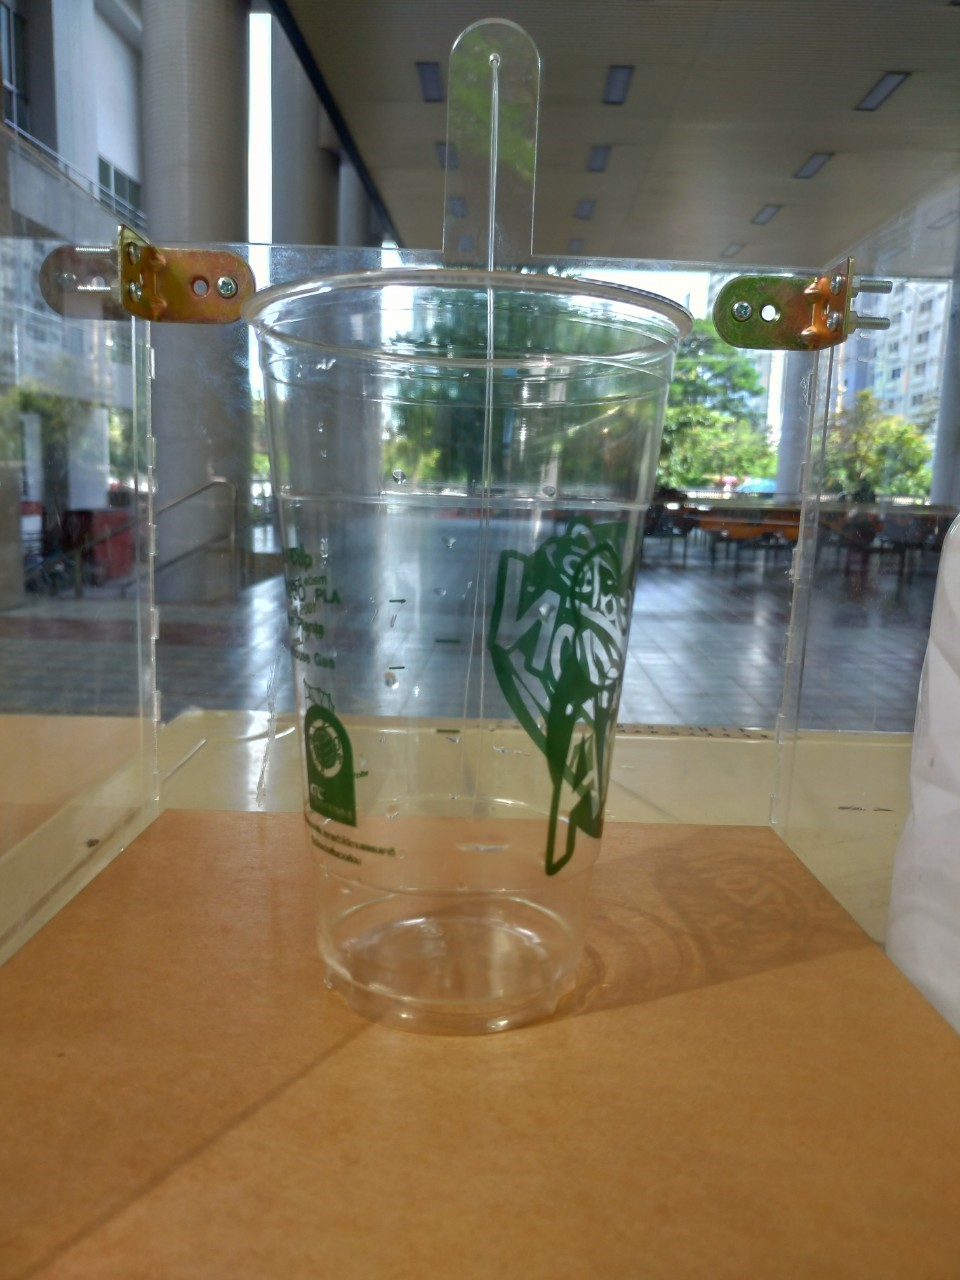PlasticCup: (231, 266, 692, 1029)
